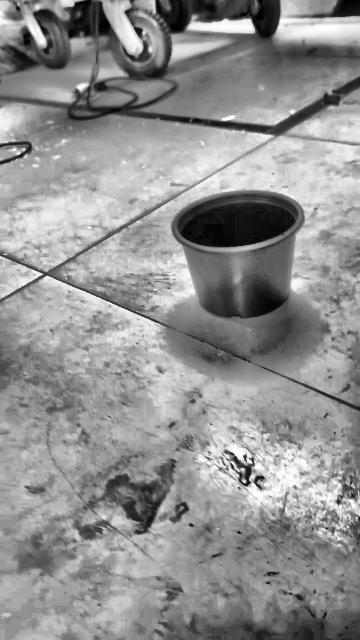pot: (171, 190, 304, 317)
